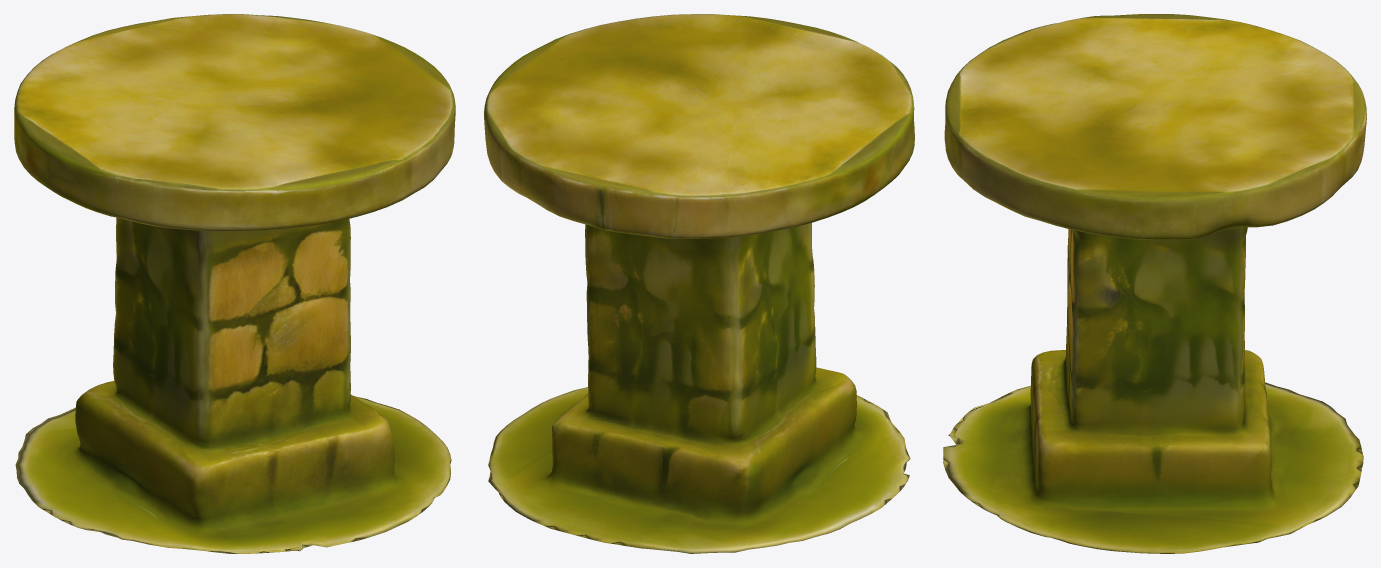
The model's file is Ancient_Stone_Altar_1016013808_texture.fbx.
3 renders of one model, left to right at view 1: azimuth 30°, elevation 25°; view 2: azimuth 150°, elevation 25°; view 3: azimuth 270°, elevation 25°, orthographic. The views are drawn at different scales.
Visible parts, largest first — view 1: Mesh1.0; view 2: Mesh1.0; view 3: Mesh1.0.
Boxes of the visible parts, x1,y1,x2,y2 form: Mesh1.0: [14, 14, 455, 553]; Mesh1.0: [484, 14, 914, 553]; Mesh1.0: [943, 14, 1366, 553].
Size of the model in its own units: 200 by 187 by 197.
1 material, 1 textured.
